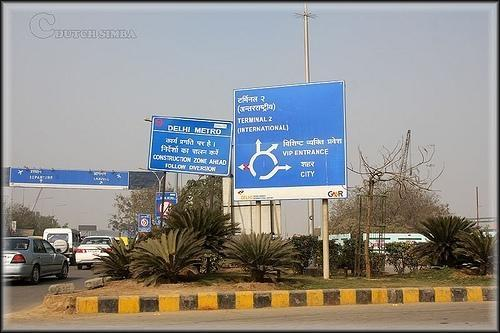car: (3, 238, 70, 278), (75, 235, 118, 269)
truck: (42, 228, 84, 266)
